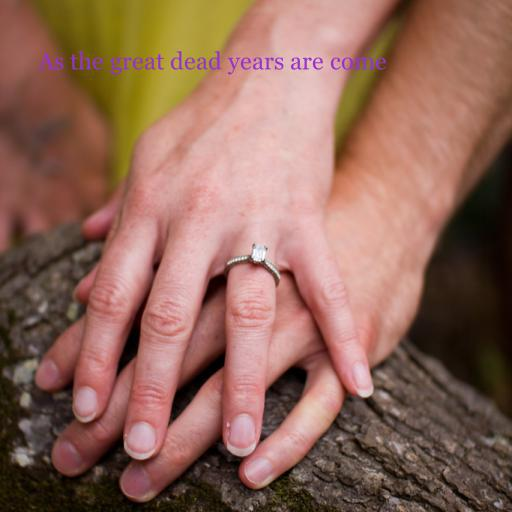Georgia: (37, 51, 387, 75)
